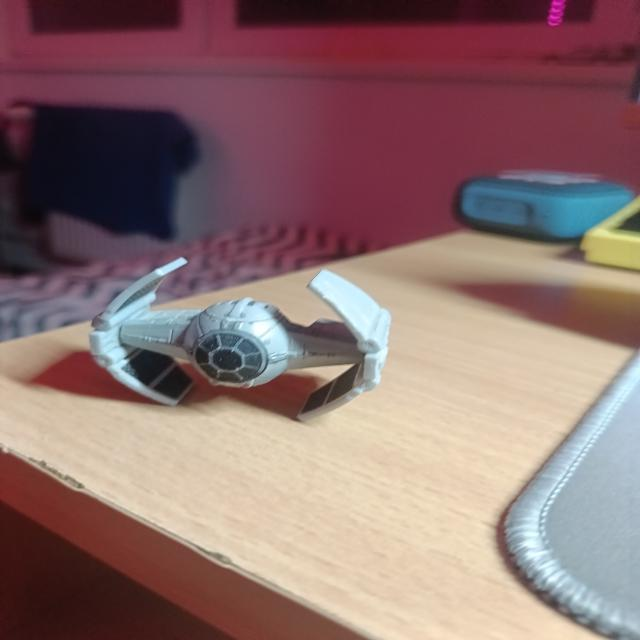tie fighter: (90, 258, 391, 421)
